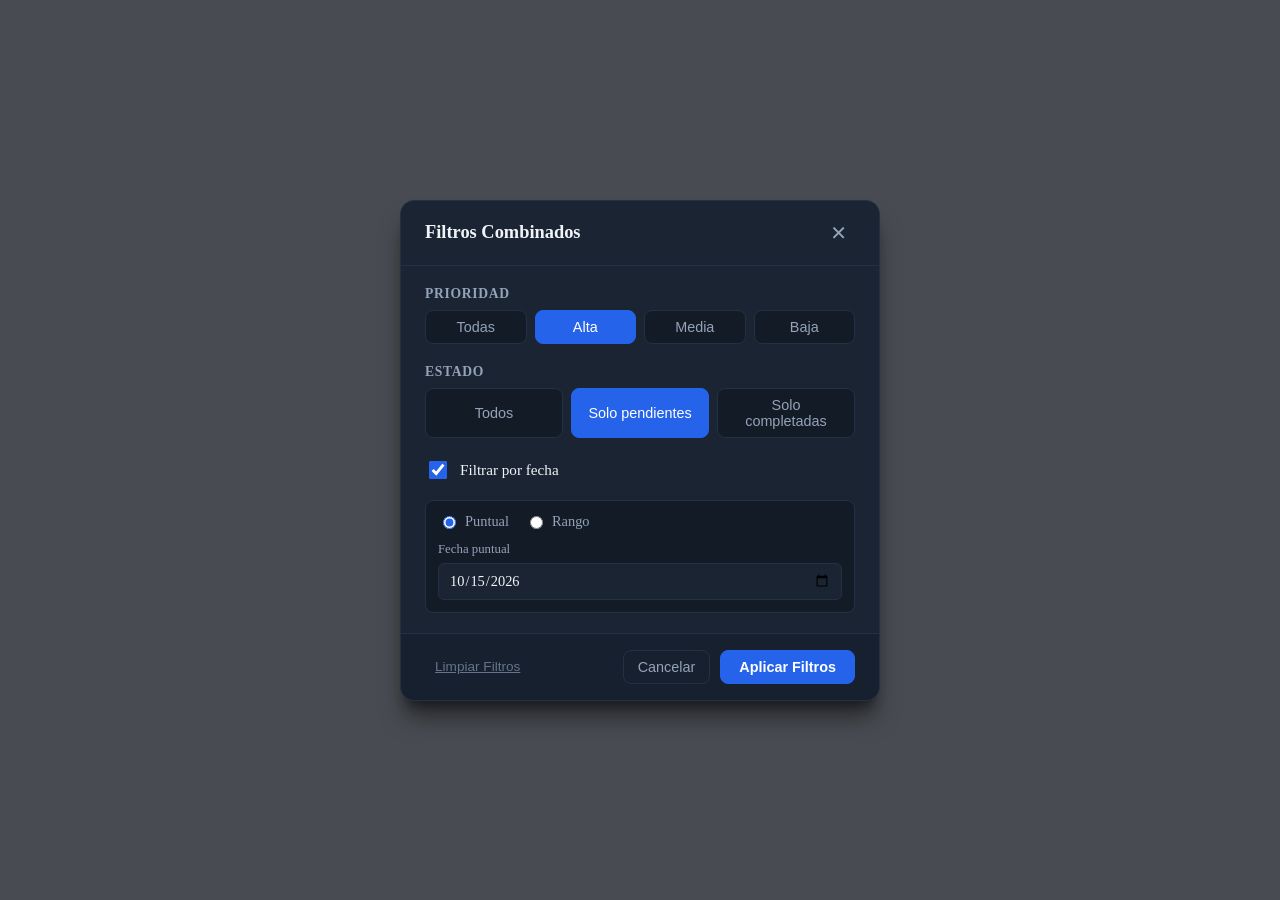
Test: Componente Accesible · FilterModal (Buffer Local Desacoplado y Control AND) › debería restablecer los criterios a DEFAULT_FILTER_CRITERIA al pulsar [Limpiar Filtros]
# Pulsar limpiar
Click the button "Limpiar Filtros" at (478, 666), box [425,651,530,682]
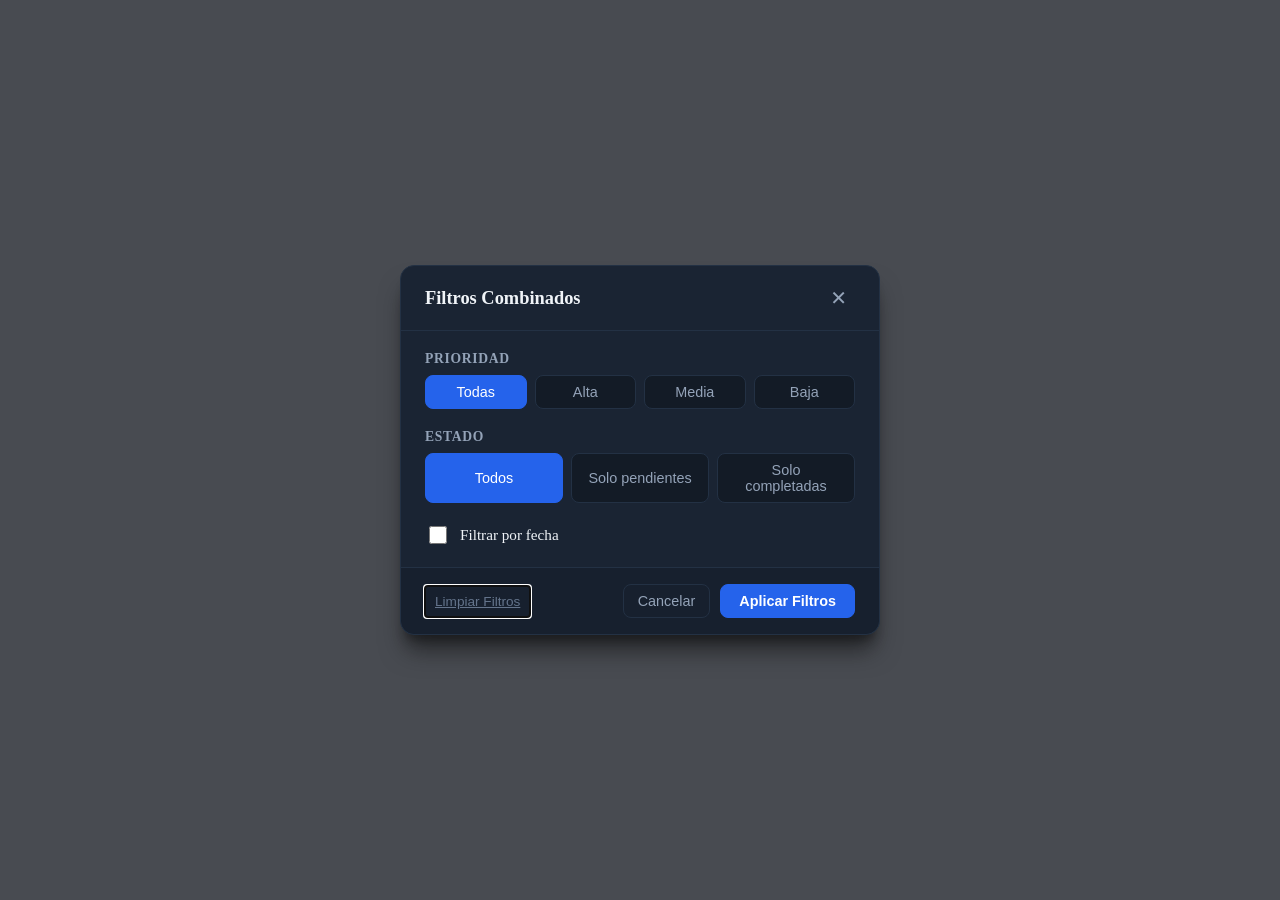
Check: the checkbox labelled "Filtrar por fecha" is not checked, box [429,526,447,544]
